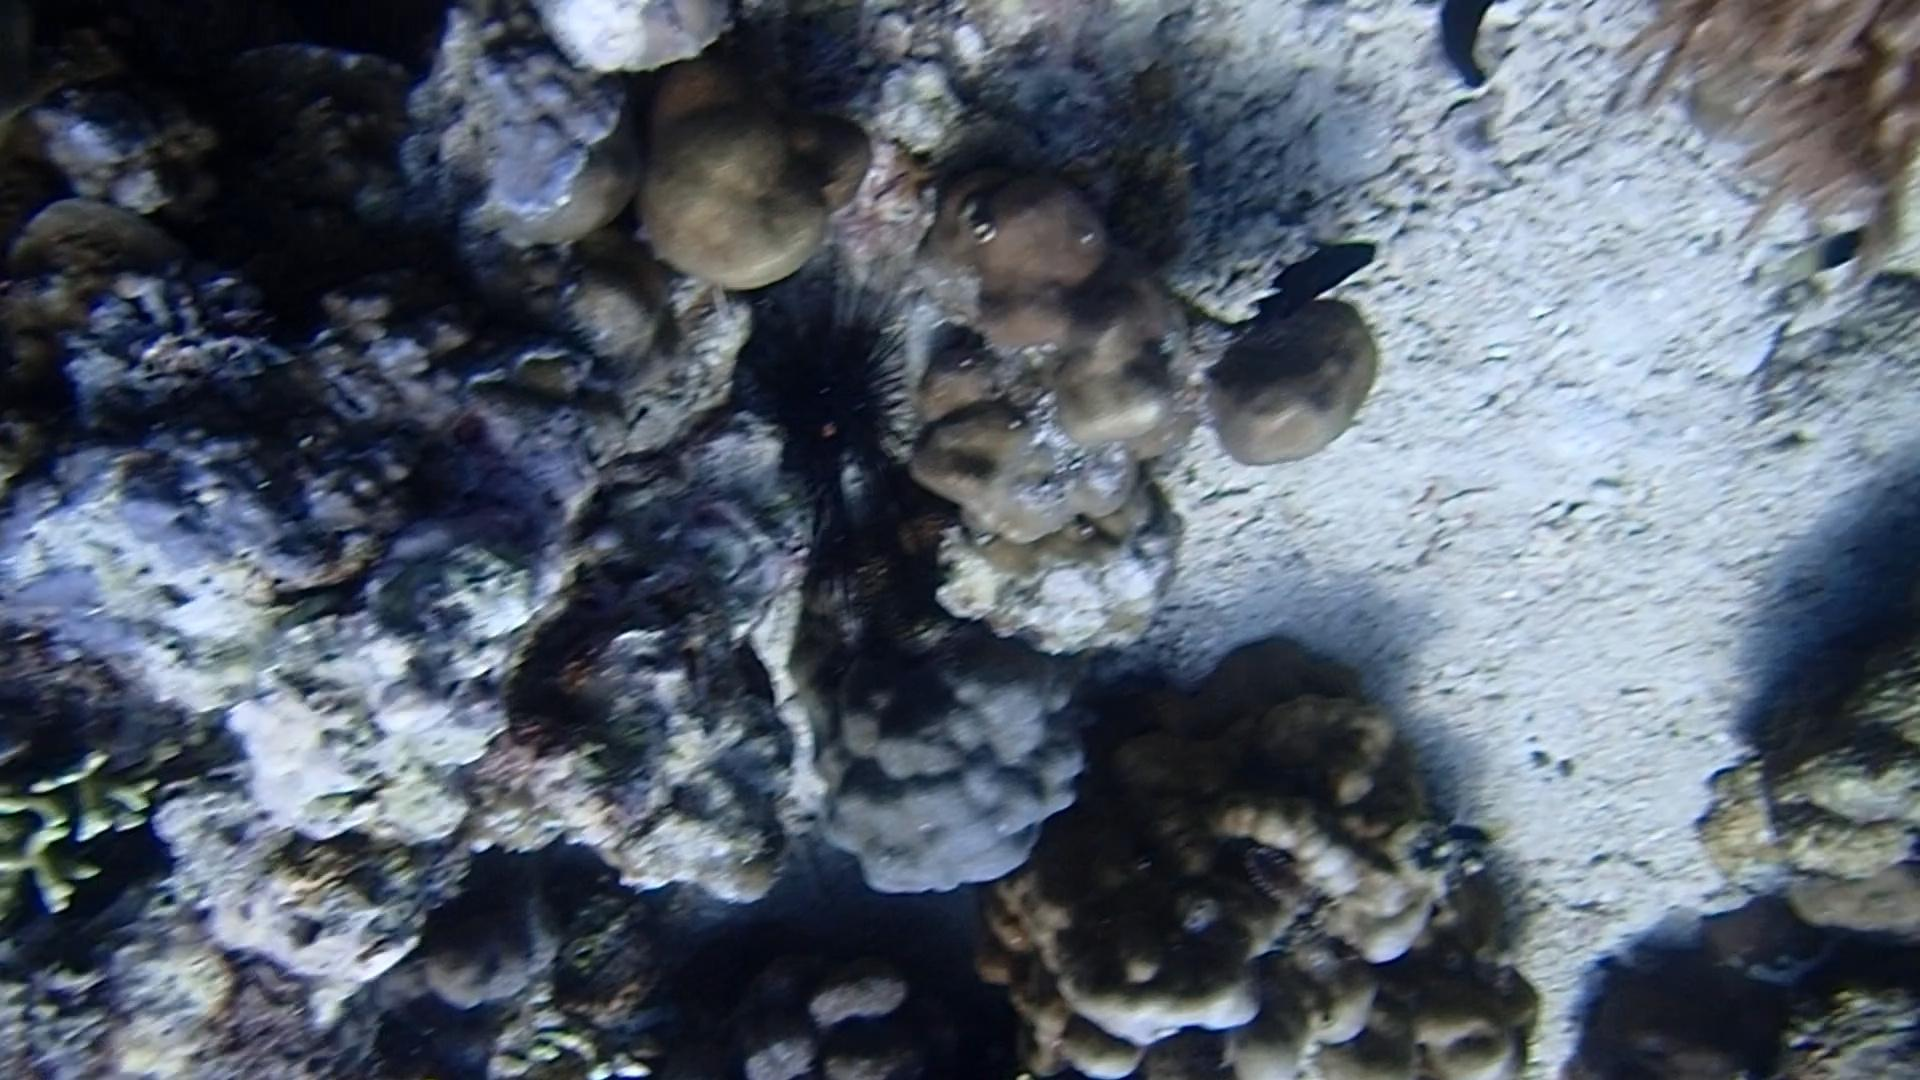Dark Fish: (1246, 228, 1402, 331), (1422, 0, 1519, 98)
Yellow Tail: (1759, 228, 1878, 290), (1418, 804, 1510, 860)
